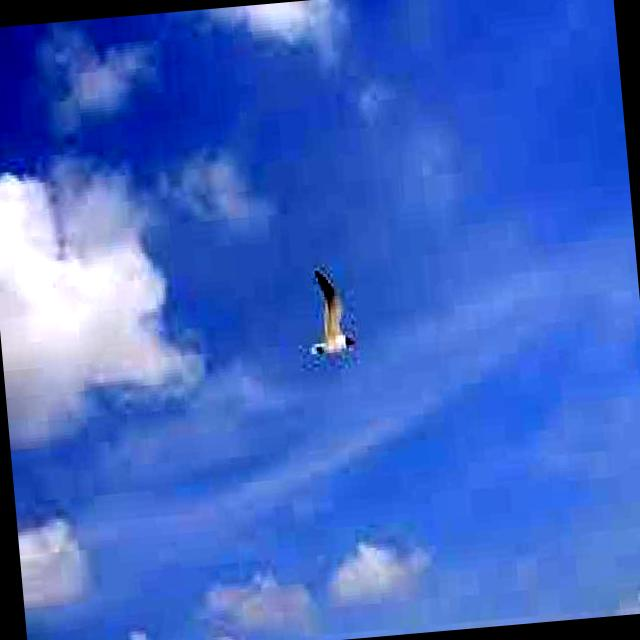bird: (301, 263, 359, 359)
